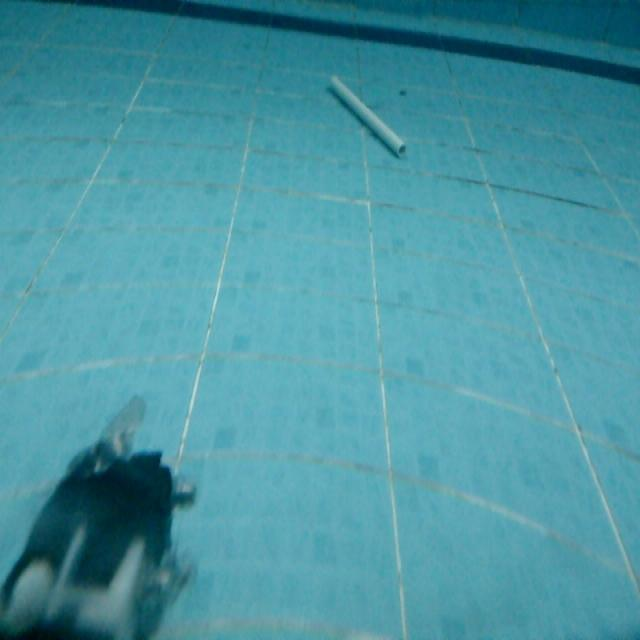Cube: (326, 68, 408, 160)
